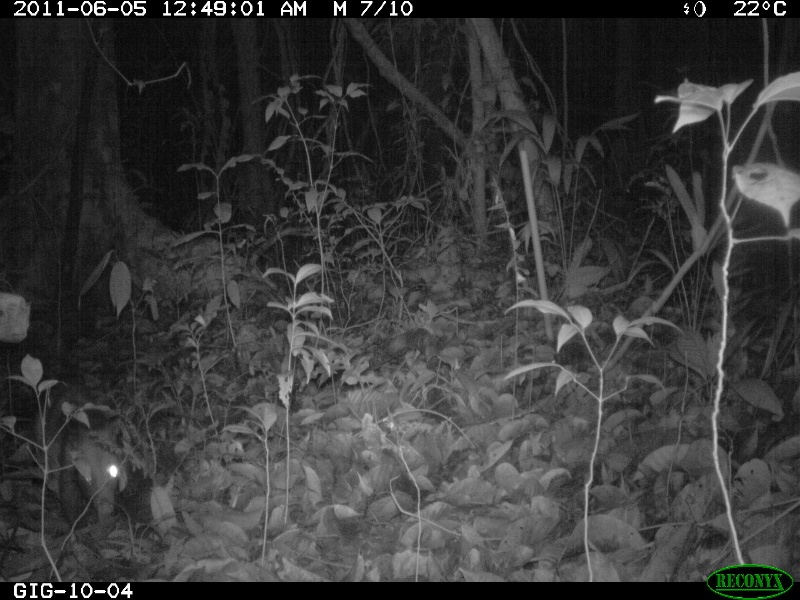opossum: (31, 390, 131, 511)
